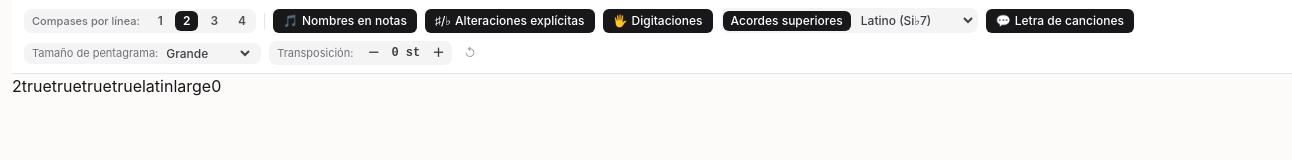
OrthogonalControlsBar › updates measuresPerSystem on density button click without affecting other controls
The width and height of the screenshot is (1292, 160).
What coordinates should you click on to do the following:
click the radio button with test id "density-btn-3"
I would click on:
 (214, 20)
Its box is 202,10 -> 226,30.
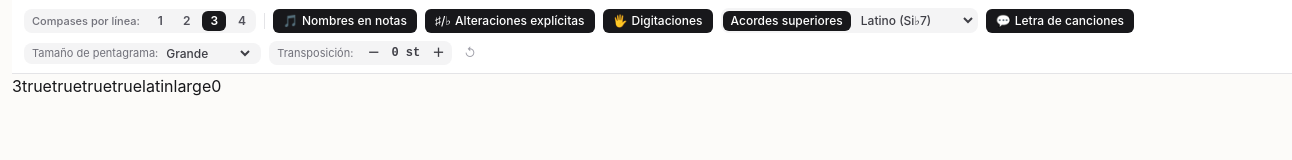
Expected: the text with test id "insp-notenames" reads "true", 22,76 -> 52,96
Now the text with test id "insp-density" reads "3", box 12,76 -> 22,96
